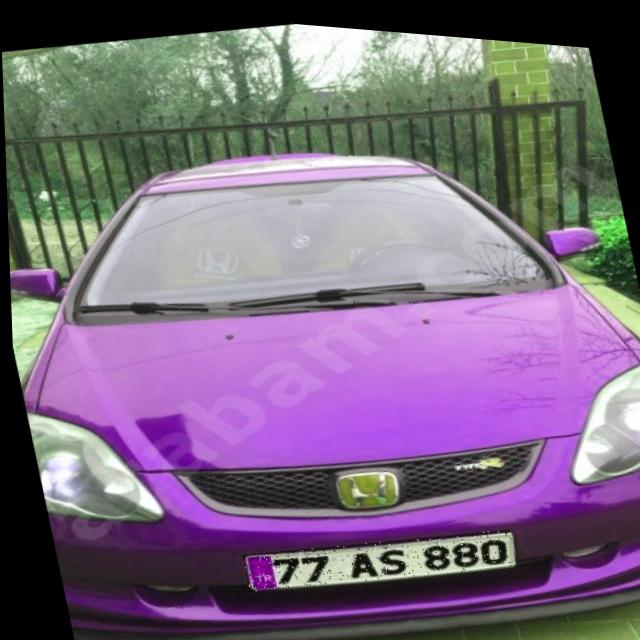license_plate: (236, 503, 514, 605)
